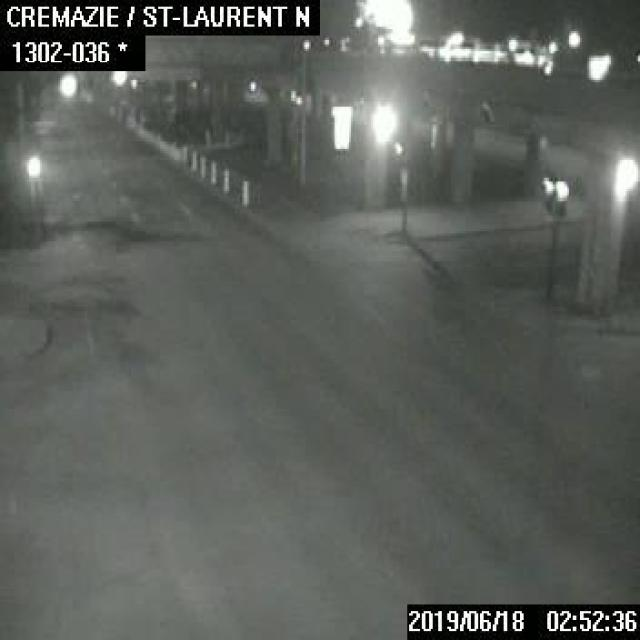construction: (222, 164, 231, 193), (240, 176, 249, 204), (188, 147, 196, 169), (198, 153, 206, 175), (180, 144, 188, 166), (208, 158, 216, 180)
